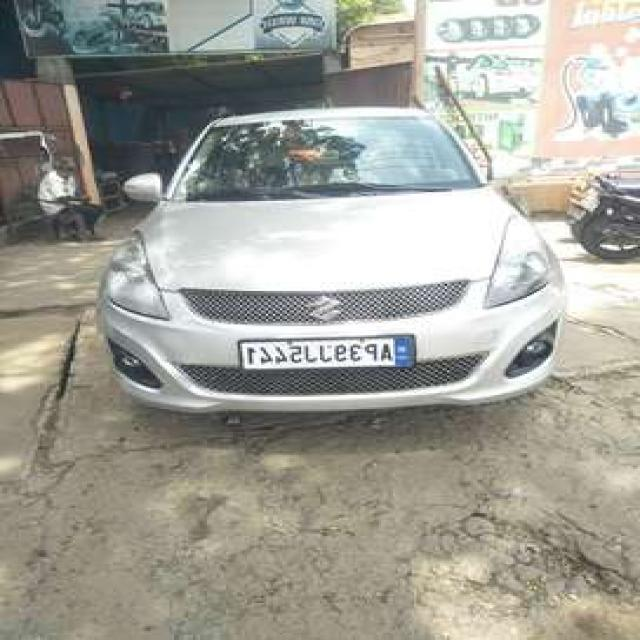license_plate: (231, 330, 422, 377)
